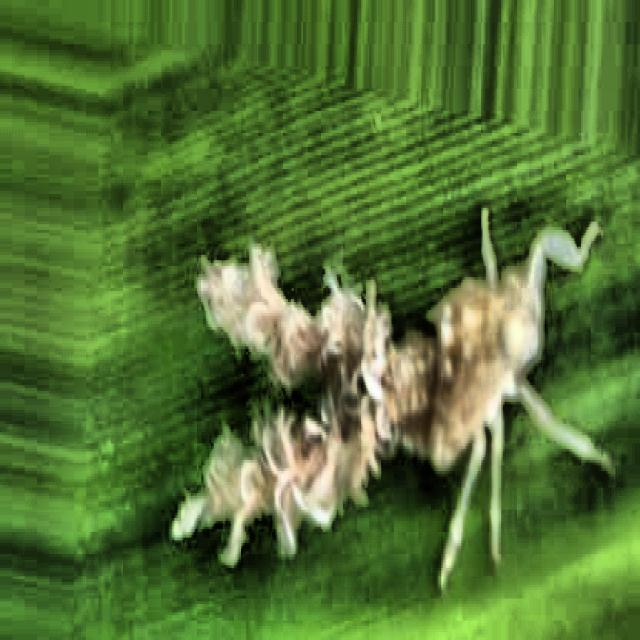Pyrilla-perpusilla: (151, 164, 611, 606)
